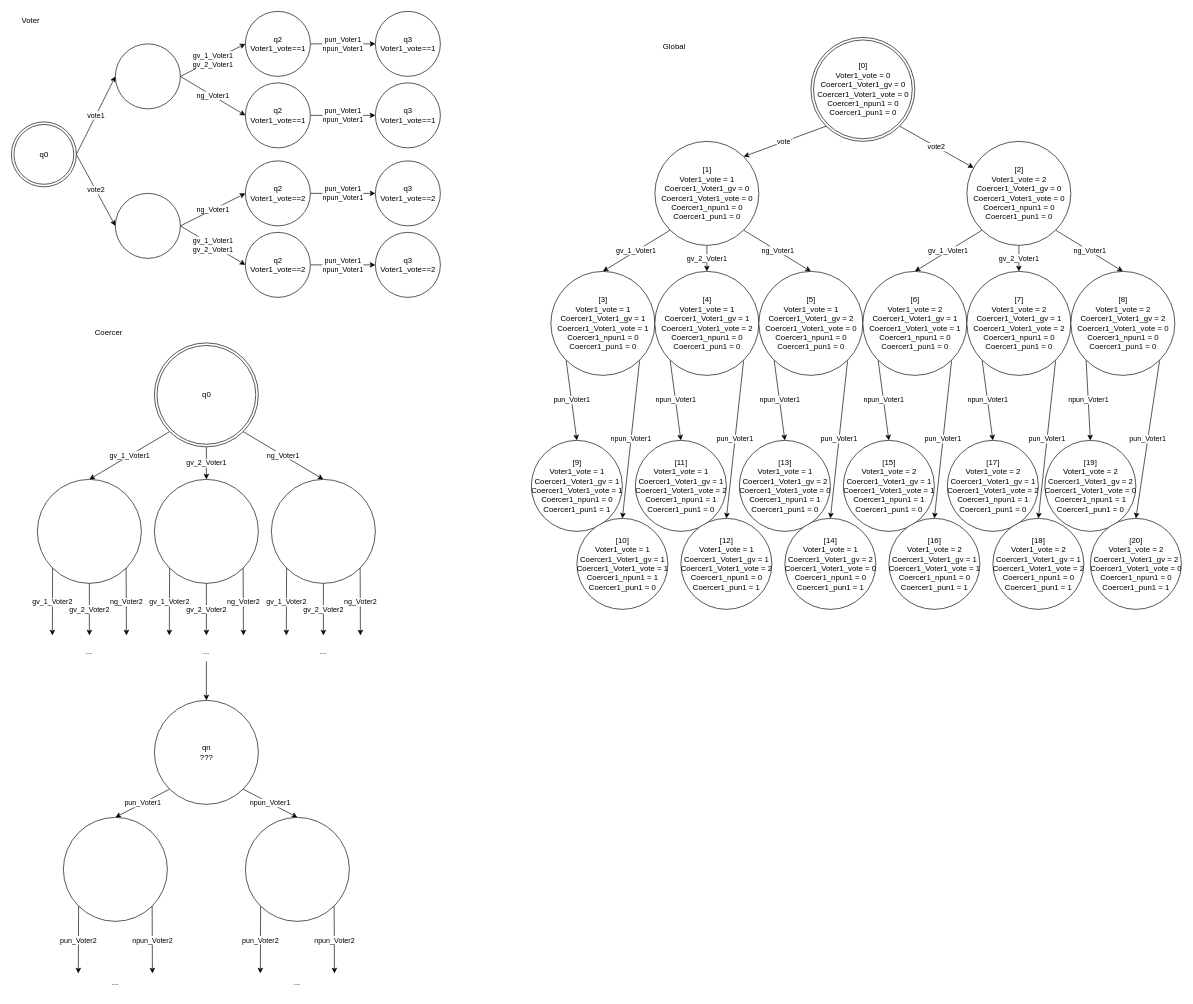
This 1193x1004 diagram has some shape labels left out. Here are the shapes that lost their labels. From the top down, the box of each, then its label:
(115, 43, 180, 109): q1 Voter1_vote==1
(115, 193, 180, 258): q1 Voter1_vote==2
(37, 479, 141, 583): q1 Coercer1_Voter1_vote:=1 Coercer1_Voter1_gv:=1
(154, 479, 258, 583): q1 Coercer1_Voter1_vote:=2 Coercer1_Voter1_gv:=1
(271, 479, 375, 583): q1 Coercer1_Voter1_gv:=2
(63, 817, 167, 921): qn+1 ??? Coercer1_pun1:=1
(245, 817, 349, 921): qn+1 ??? Coercer1_npun1:=1
